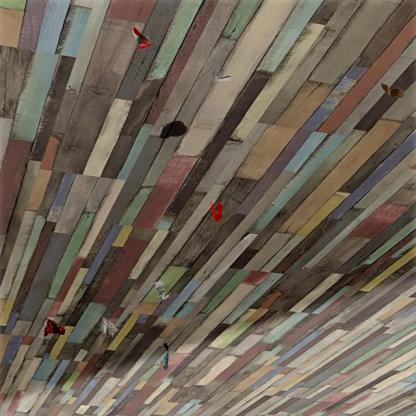dirty: (42, 316, 68, 340), (98, 315, 121, 339), (379, 82, 407, 100), (209, 65, 233, 84), (132, 26, 151, 50), (153, 279, 170, 301), (159, 342, 170, 371)
liquid: (158, 121, 186, 138), (209, 200, 224, 222)
